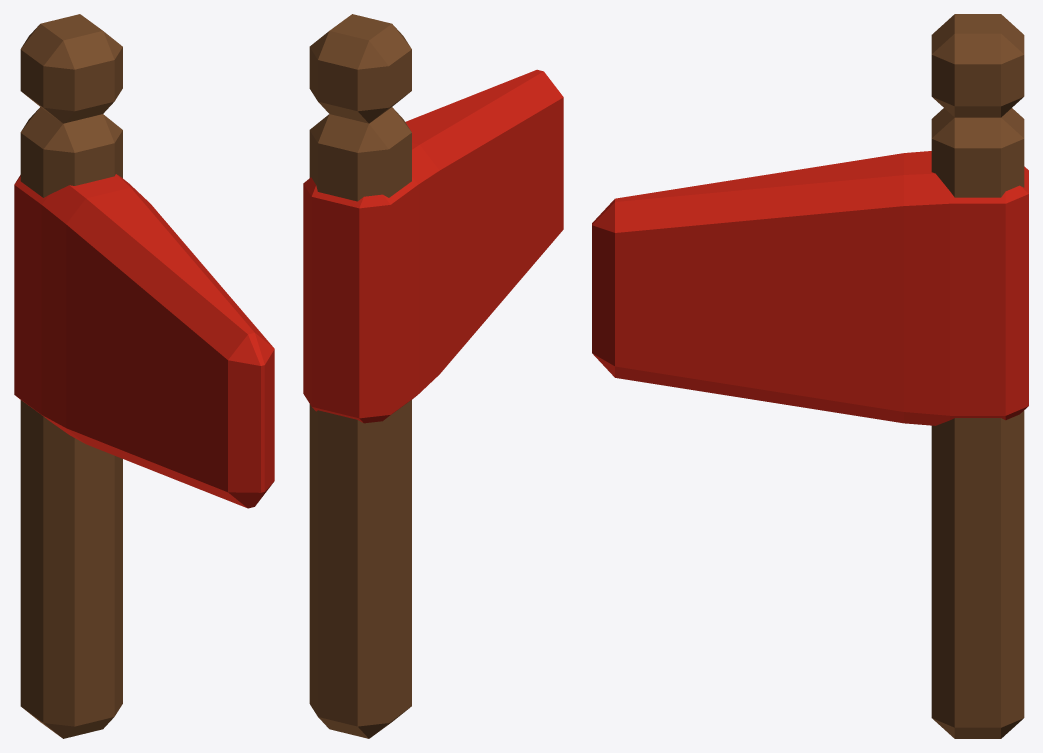
Rendered from flag.001.glb.
3 views of the same model, side by side, from view 1: azimuth 30°, elevation 25°; view 2: azimuth 150°, elevation 25°; view 3: azimuth 270°, elevation 25° (orthographic).
Visible parts, largest first — view 1: flag.001; view 2: flag.001; view 3: flag.001.
Part boxes in pixels (x1,y1,x2,y2): flag.001: (14, 14, 274, 738); flag.001: (303, 14, 563, 738); flag.001: (592, 14, 1028, 738).
Size of the model in its own units: 0.22 by 1.68 by 0.9424.
